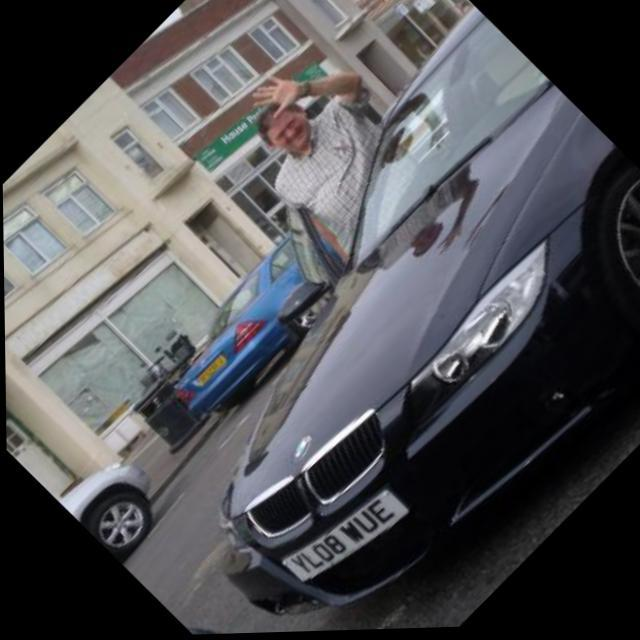license_plate: (278, 472, 411, 605), (194, 352, 228, 388)
